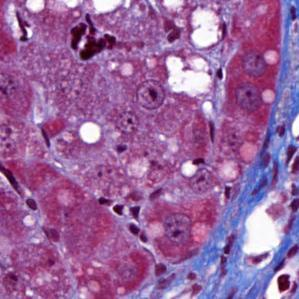inflammation: (66, 11, 117, 64), (94, 195, 145, 220), (273, 272, 298, 295)
